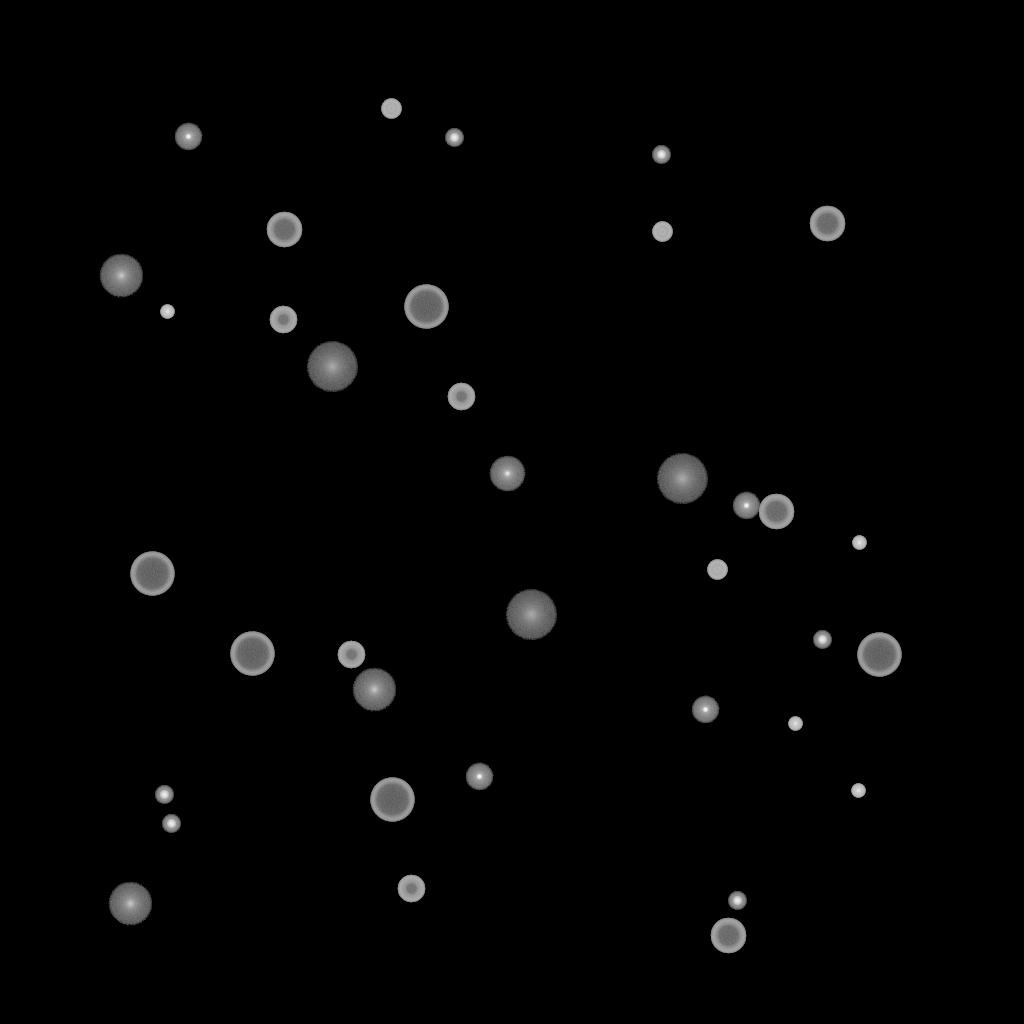depth:-10: (691, 696, 719, 724), (465, 763, 493, 791), (732, 492, 760, 520), (174, 123, 202, 151)
depth:-20: (155, 786, 173, 804), (728, 892, 746, 910), (445, 129, 463, 147), (813, 631, 831, 649), (162, 815, 180, 833), (652, 146, 670, 164)
depth:-30: (160, 305, 174, 319), (851, 784, 865, 798), (788, 717, 802, 731), (852, 536, 866, 550)
depth:-40: (707, 560, 727, 580), (652, 222, 672, 242), (381, 99, 401, 119)
depth:-50: (337, 641, 365, 669), (269, 306, 297, 334), (447, 383, 475, 411), (397, 875, 425, 903)
depth:-60: (710, 918, 746, 954), (809, 206, 845, 242), (758, 494, 794, 530), (266, 212, 302, 248)
depth:-70: (370, 778, 414, 822), (230, 632, 274, 676), (404, 285, 448, 329), (130, 552, 174, 596), (857, 633, 901, 677)
depth:0: (489, 456, 525, 492)
depth:10: (352, 668, 396, 712), (108, 882, 152, 926), (99, 254, 143, 298)
depth:20: (505, 590, 557, 640), (656, 454, 708, 504), (306, 342, 358, 392)
